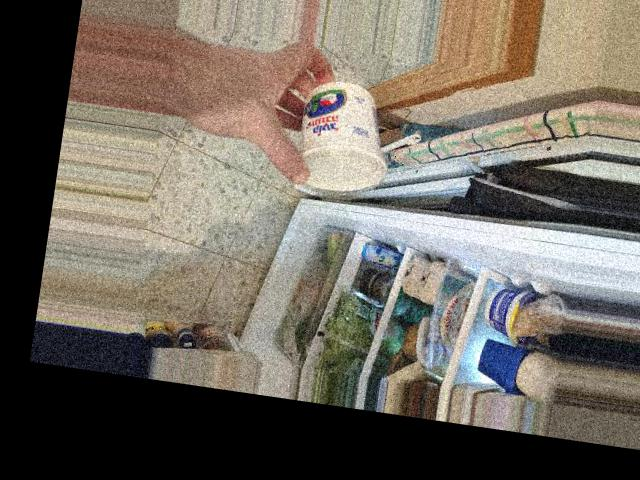cotage: (274, 70, 401, 203)
